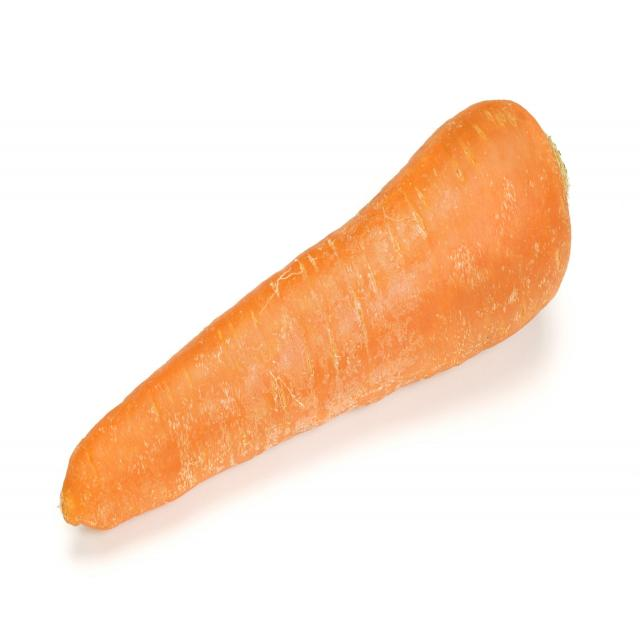Carrot: (62, 107, 574, 528)
